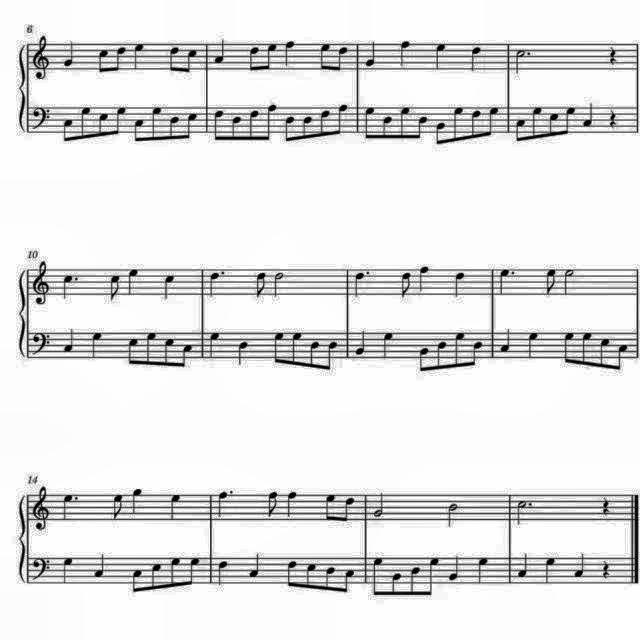Bass-clef: (30, 102, 54, 132), (30, 554, 54, 582), (30, 330, 54, 358)
Eighth-note: (371, 554, 387, 598), (450, 104, 466, 146), (265, 100, 281, 142), (76, 105, 94, 142), (452, 330, 468, 370), (105, 272, 125, 304), (148, 102, 164, 142), (288, 329, 304, 367), (396, 103, 412, 141), (580, 330, 596, 368), (142, 331, 158, 369), (270, 329, 286, 366), (528, 104, 544, 140), (59, 114, 77, 146), (112, 102, 128, 138), (168, 553, 184, 589), (264, 488, 282, 520), (336, 100, 352, 136), (162, 334, 178, 370), (360, 102, 376, 138), (108, 491, 126, 523), (210, 106, 226, 142), (395, 268, 413, 300), (560, 330, 576, 366), (543, 266, 561, 298), (251, 268, 269, 300), (468, 108, 484, 142), (148, 559, 164, 593), (408, 563, 424, 597), (246, 107, 262, 141), (486, 103, 502, 137), (596, 336, 612, 370), (318, 41, 334, 75), (562, 102, 578, 136), (304, 559, 320, 591), (306, 338, 322, 370), (436, 338, 452, 370), (283, 558, 299, 590), (336, 44, 352, 76), (184, 109, 200, 141), (321, 490, 337, 522), (166, 44, 182, 76), (246, 44, 262, 76), (282, 112, 298, 144), (342, 492, 358, 524), (126, 334, 142, 366), (92, 46, 108, 78), (616, 342, 632, 374), (112, 42, 128, 74), (185, 554, 201, 586), (264, 42, 280, 74), (468, 338, 484, 369), (416, 342, 432, 373), (324, 338, 340, 369), (388, 570, 404, 600), (342, 567, 358, 597), (322, 565, 338, 595), (96, 110, 112, 140), (130, 567, 146, 597), (426, 553, 442, 583), (318, 106, 332, 138), (380, 112, 396, 140), (131, 118, 147, 146), (230, 112, 246, 140), (179, 342, 195, 370), (414, 114, 430, 142), (547, 110, 561, 140), (184, 47, 198, 77), (514, 116, 530, 142), (167, 115, 181, 143), (302, 114, 316, 142), (436, 119, 450, 147)
Half-dot: (513, 46, 535, 78), (512, 496, 534, 528)
Half-note: (442, 499, 460, 529), (270, 269, 288, 299), (370, 489, 386, 519), (560, 266, 576, 296)
Quarter-dot: (494, 266, 518, 298), (61, 270, 84, 302), (351, 268, 374, 300), (59, 490, 81, 522), (207, 268, 229, 300), (213, 487, 235, 519)
Quarter-note: (160, 270, 180, 302), (430, 38, 450, 70), (466, 45, 486, 75), (450, 269, 470, 299), (395, 36, 413, 68), (61, 36, 79, 68), (125, 266, 143, 298), (131, 39, 149, 71), (415, 262, 433, 294), (167, 493, 186, 523), (361, 39, 379, 70), (245, 550, 263, 580), (211, 36, 229, 66), (92, 550, 110, 580), (540, 555, 558, 585), (213, 557, 231, 587), (524, 330, 542, 360), (128, 485, 146, 515), (60, 554, 76, 586), (282, 36, 298, 68), (379, 331, 396, 361), (476, 555, 492, 585), (62, 325, 78, 355), (90, 330, 106, 360), (582, 100, 598, 130), (284, 489, 300, 519), (516, 552, 532, 580), (352, 329, 368, 357), (570, 552, 586, 580), (498, 326, 514, 354), (447, 554, 463, 582), (236, 338, 252, 366), (207, 328, 223, 356)
Quarter-rest: (606, 44, 622, 70), (598, 556, 614, 580), (598, 492, 614, 516), (604, 104, 620, 128)
Treble-clef: (30, 259, 54, 309), (30, 35, 54, 85), (30, 483, 54, 532)
